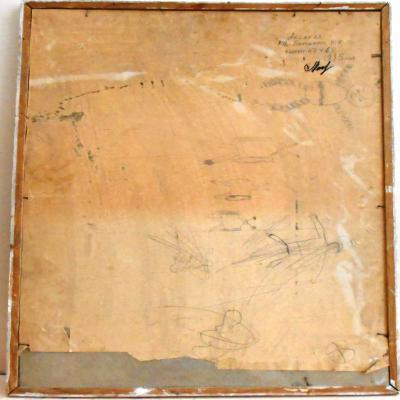painting: (8, 0, 400, 400)
